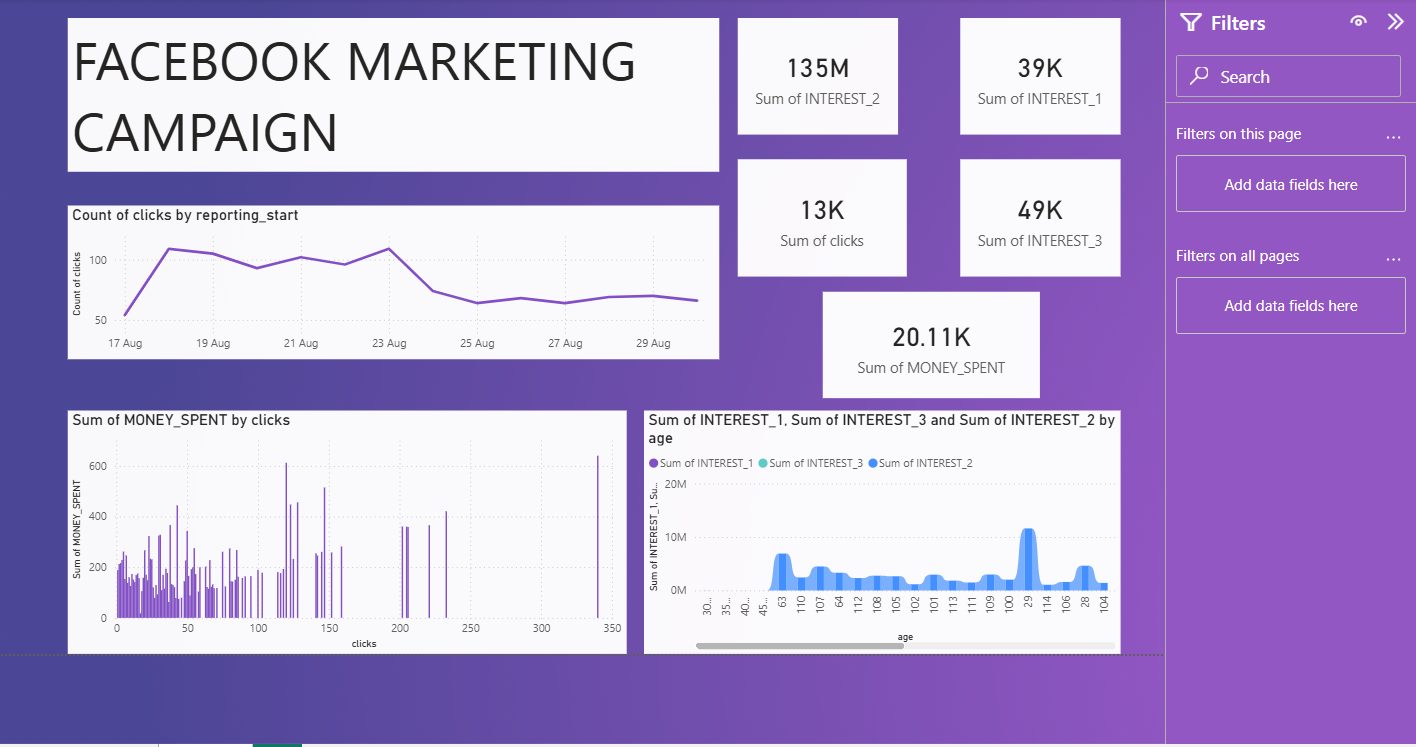

The page's visual inventory and layout, read from the dashboard file:
{"tool":"powerbi","page":{"name":"Page 1","canvas":[1280,720],"ordinal":0},"visuals":[{"type":"card","fields":{"Values":["Sum(data.interest1)"]},"box":[1055.2,22,175.6,127.6],"z":0},{"type":"card","fields":{"Values":["Sum(data.interest2)"]},"box":[811,22,175.6,127.6],"z":1},{"type":"card","fields":{"Values":["Sum(data.interest3)"]},"box":[1055.2,177,175.6,129],"z":2},{"type":"card","fields":{"Values":["Sum(data.clicks)"]},"box":[811,177,185.2,129],"z":3},{"type":"textbox","box":[75.5,22,714.9,168.8],"z":4},{"type":"ribbonChart","fields":{"Y":["Sum(data.interest1)","Sum(data.interest3)","Sum(data.interest2)"],"Category":["data.age"]},"box":[708.1,452.8,522.8,267.6],"z":5},{"type":"lineClusteredColumnComboChart","fields":{"Category":["data.clicks"],"Y":["Sum(data.spent)"]},"box":[75.5,452.8,613.4,267.6],"z":6},{"type":"card","fields":{"Values":["Sum(data.MONEY_SPENT)"]},"box":[904.3,322.5,238.8,116.6],"z":7},{"type":"lineChart","fields":{"Y":["CountNonNull(data.clicks)"],"Category":["data.reporting_start"]},"box":[75,227.5,715,169],"z":8}]}

Visuals, with their boxes on the page's 1280x720 design canvas (x1, y1, x2, y2). These are canvas units, not pixel positions in the 1416x747 screenshot, which may show the page scaled, cropped or inside an application window:
card - Sum(data.interest1): box(1055, 22, 1231, 150)
card - Sum(data.interest2): box(811, 22, 987, 150)
card - Sum(data.interest3): box(1055, 177, 1231, 306)
card - Sum(data.clicks): box(811, 177, 996, 306)
textbox: box(76, 22, 790, 191)
ribbonChart - Sum(data.interest1) x Sum(data.interest3): box(708, 453, 1231, 720)
lineClusteredColumnComboChart - data.clicks x Sum(data.spent): box(76, 453, 689, 720)
card - Sum(data.MONEY_SPENT): box(904, 322, 1143, 439)
lineChart - CountNonNull(data.clicks) x data.reporting_start: box(75, 228, 790, 396)
